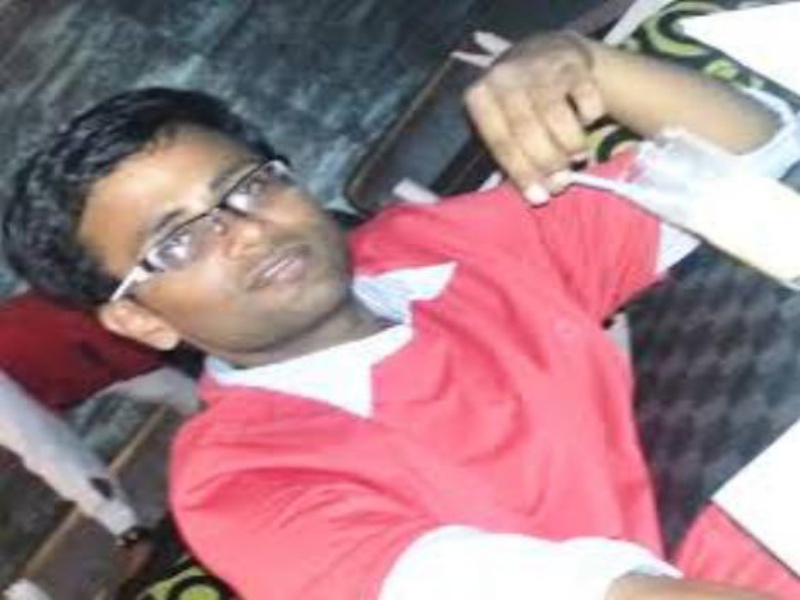TsisyArotava: (1, 77, 392, 391)
